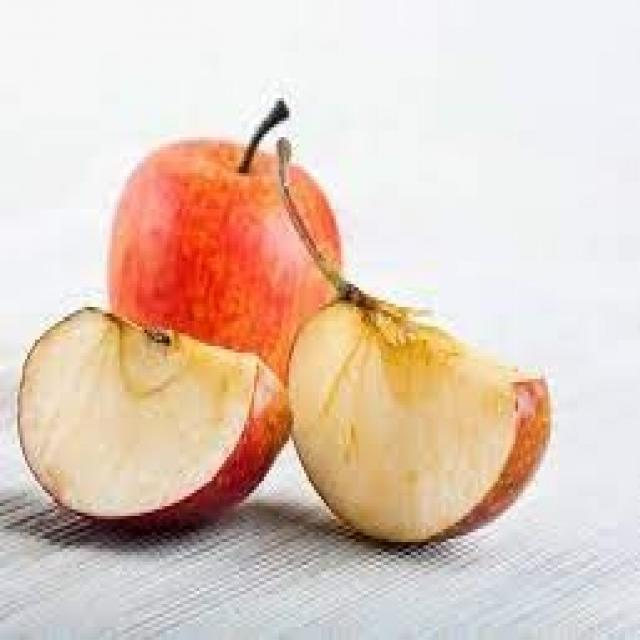Apple: (284, 271, 570, 575), (120, 131, 366, 434), (22, 304, 294, 538)
